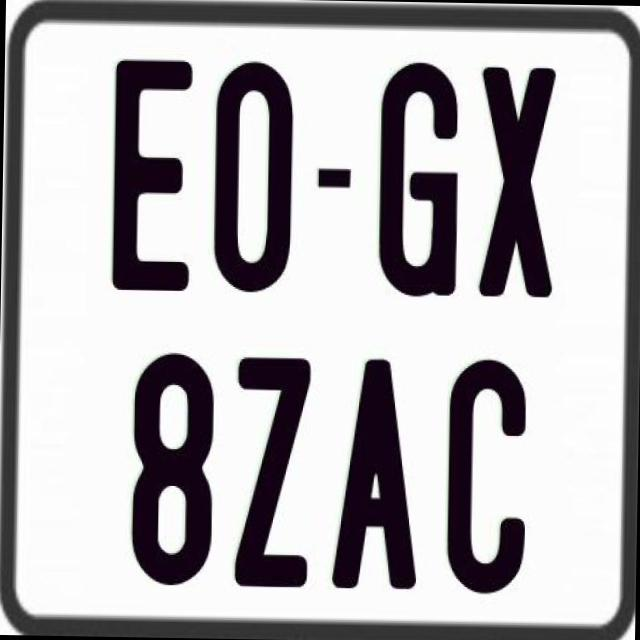0: (210, 58, 292, 298)
8: (129, 348, 221, 586)
A: (332, 357, 424, 592)
C: (446, 359, 534, 599)
E: (110, 59, 194, 294)
G: (374, 60, 456, 298)
X: (476, 67, 556, 303)
Z: (232, 352, 314, 584)
